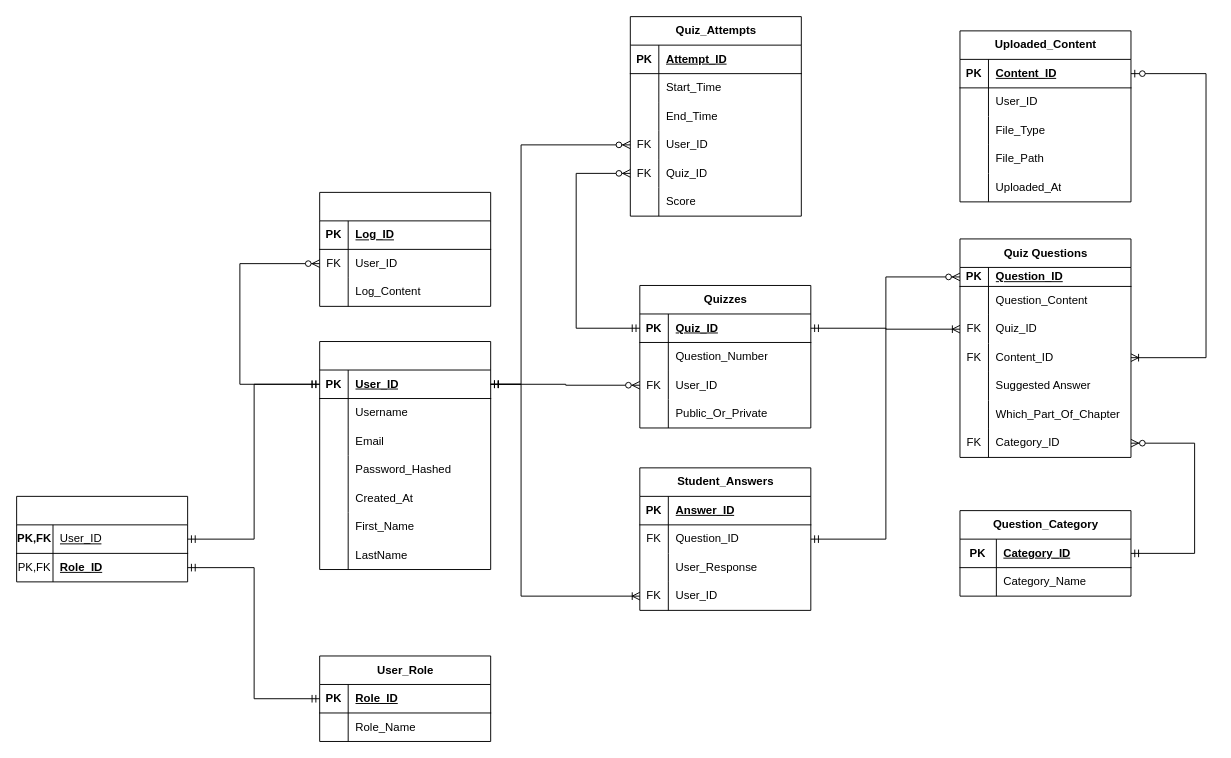
Some shapes in this 1231 by 758 pixel diagram are drawn without their labels. Each missing label, with the box of its shape:
Logs: (319, 191, 491, 306)
User-User_Role: (16, 495, 188, 582)
Users: (319, 341, 491, 570)
